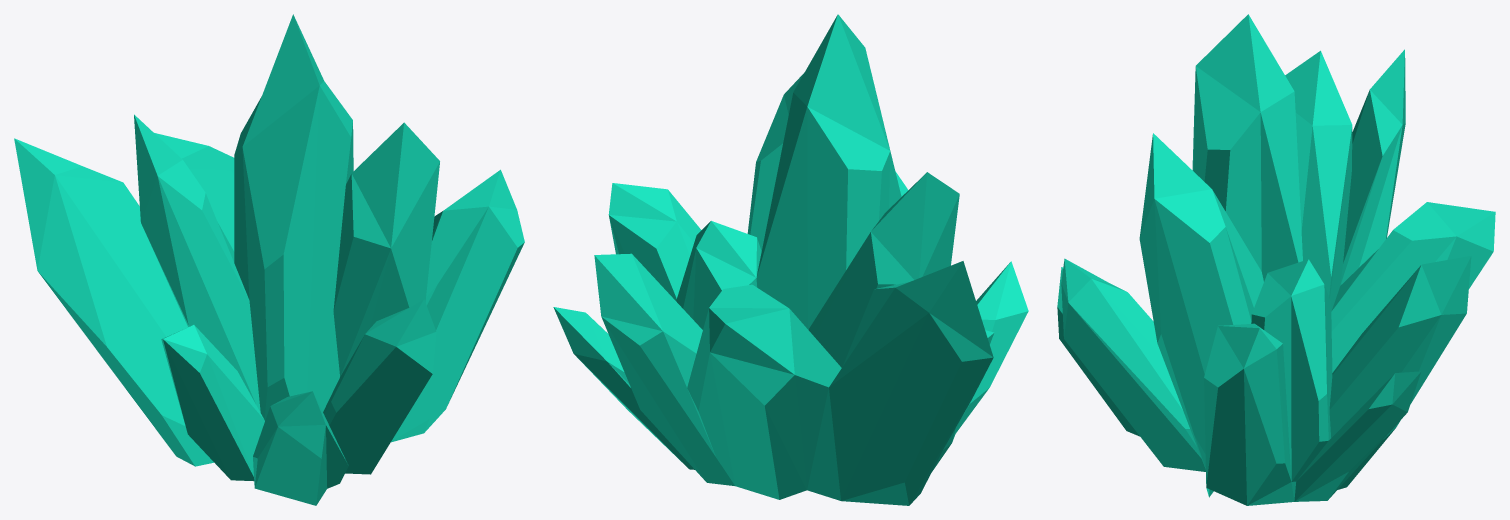
File: lib_greenmal.fbx
3 renders of one model, left to right at view 1: azimuth 30°, elevation 25°; view 2: azimuth 150°, elevation 25°; view 3: azimuth 270°, elevation 25°, orthographic. The views are drawn at different scales.
Parts seen in each view (by area): view 1: Cube.002; view 2: Cube.002; view 3: Cube.002.
Part boxes in pixels (left/top/right/bottom): Cube.002: left=14, top=14, right=524, bottom=505; Cube.002: left=553, top=14, right=1028, bottom=505; Cube.002: left=1057, top=14, right=1495, bottom=505.
Bounding box in the file's own units: 295 × 290 × 264.
